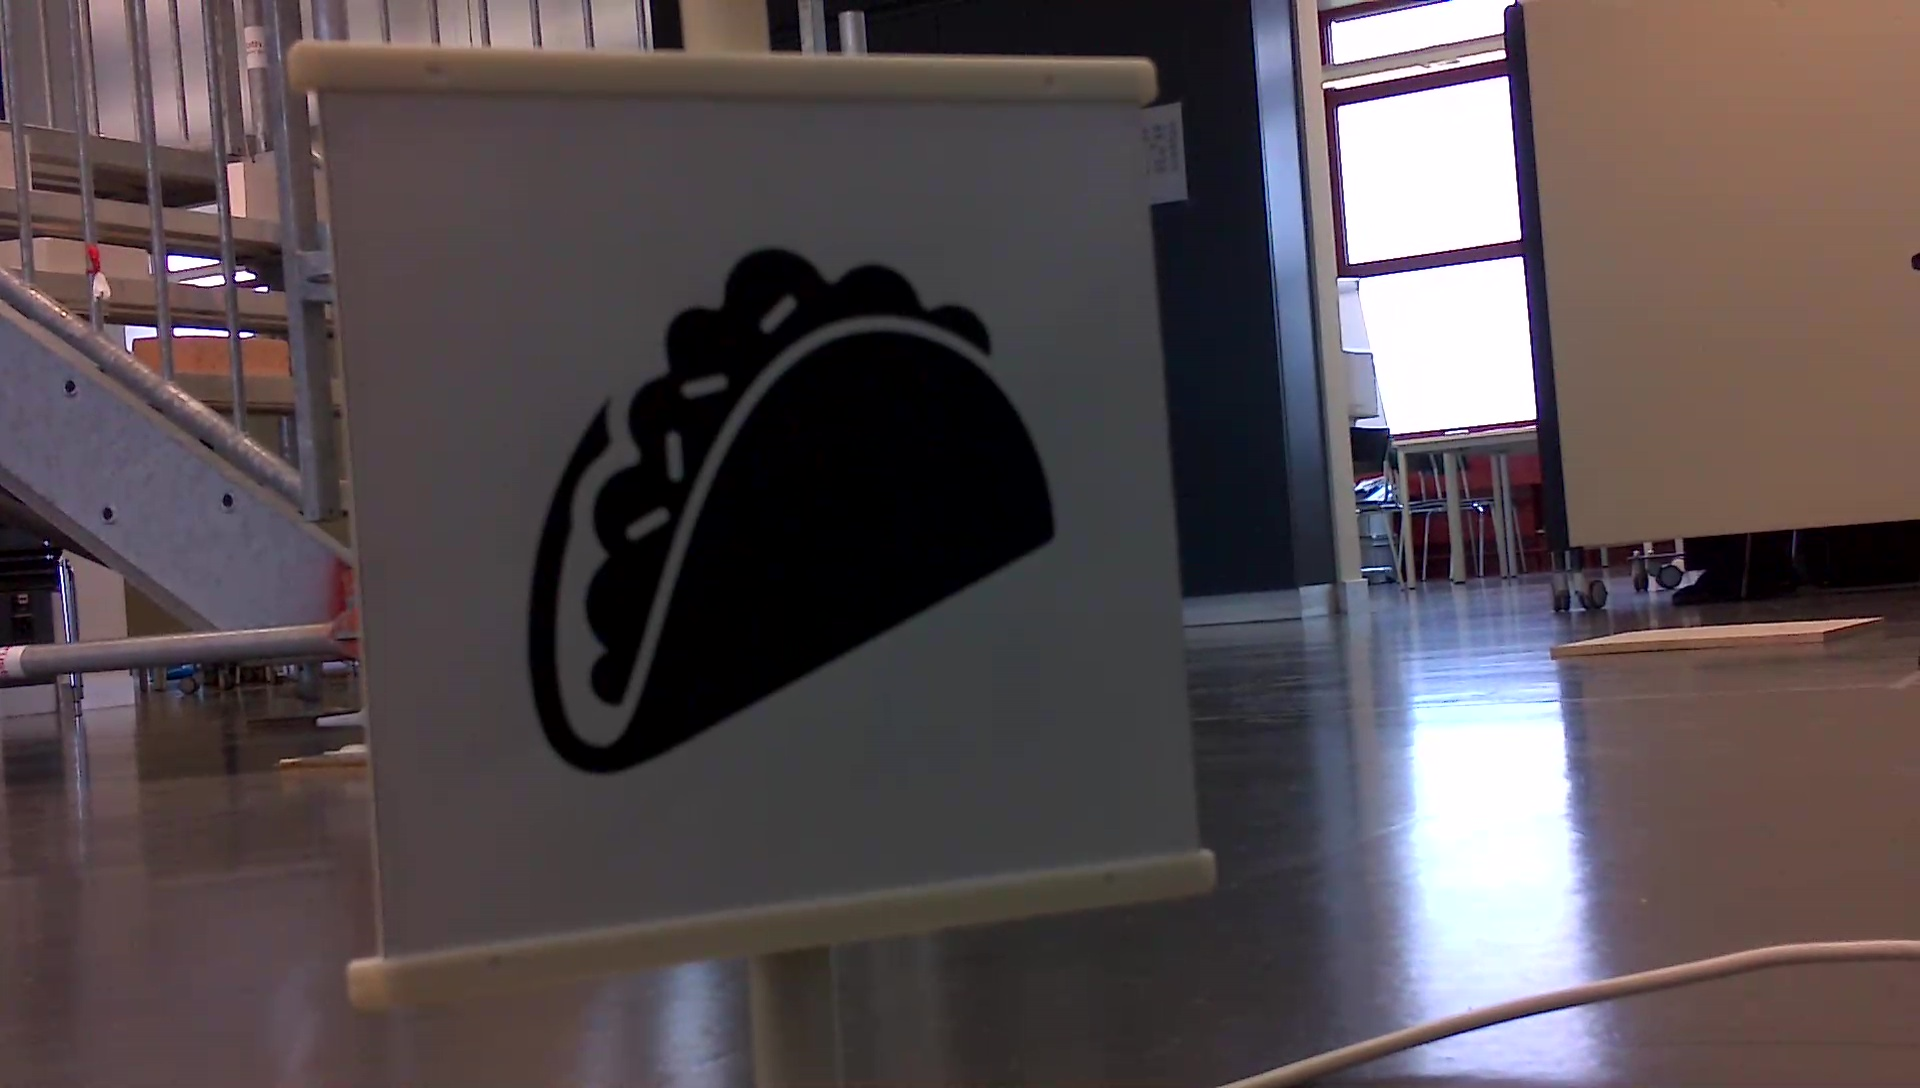taco: (522, 232, 1072, 787)
